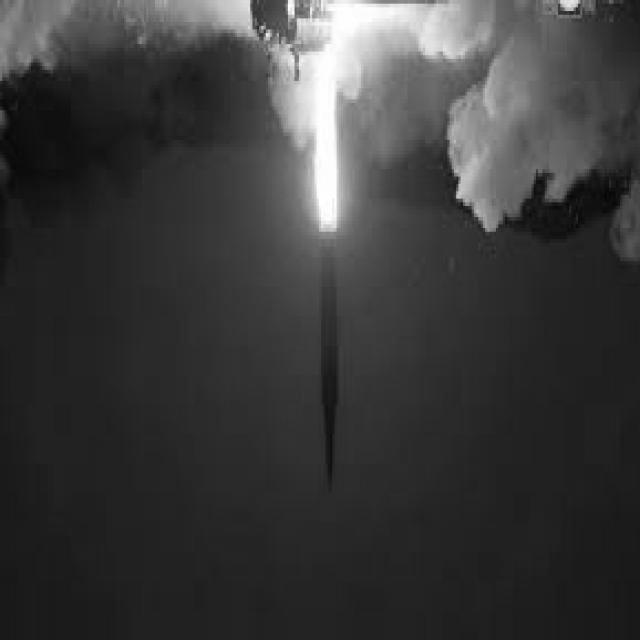Missile: (316, 202, 343, 500)
